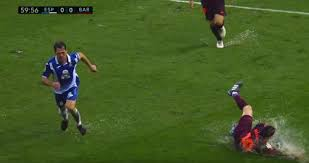fall: (220, 74, 290, 160)
